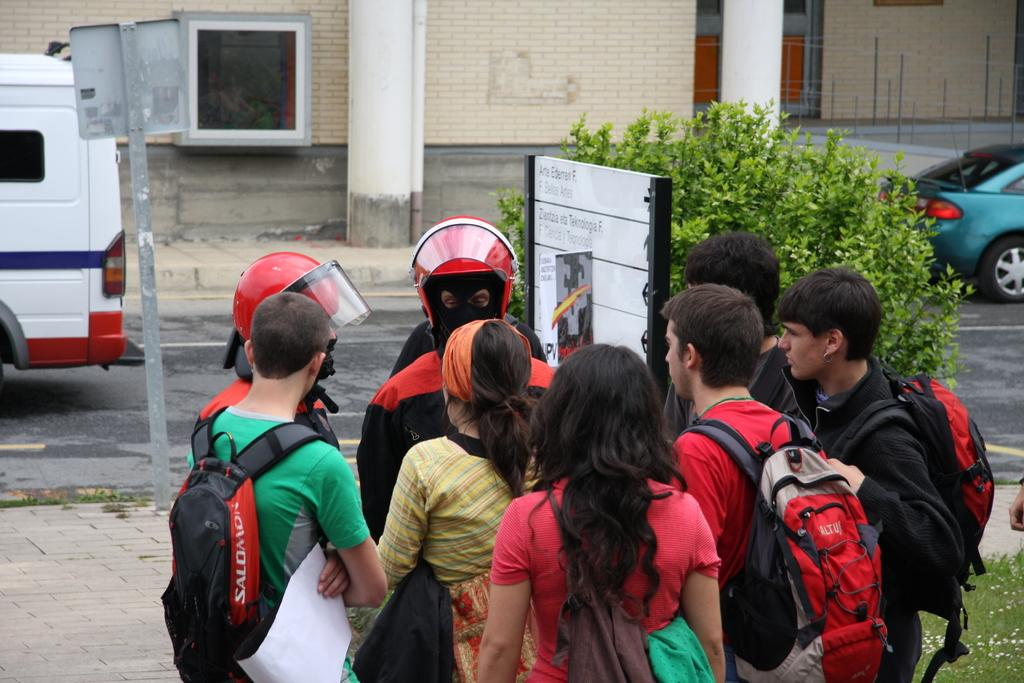helmet: (232, 251, 372, 365), (409, 215, 517, 339)
nohelmet: (543, 343, 663, 496), (661, 283, 765, 406), (777, 268, 882, 382), (441, 318, 533, 436), (244, 291, 332, 405)
